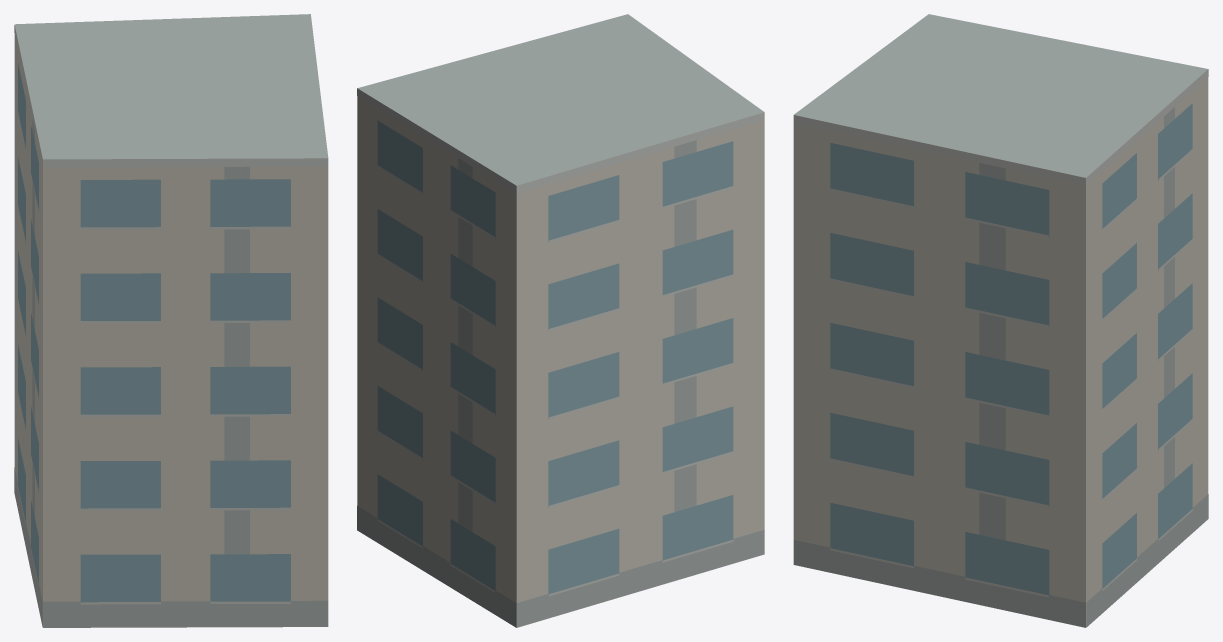
File: survey-upis-32726289.glb
3 views of the same model, side by side, from view 1: azimuth 30°, elevation 25°; view 2: azimuth 150°, elevation 25°; view 3: azimuth 270°, elevation 25° (orthographic). The views are drawn at different scales.
Visible parts, largest first — view 1: survey-upis-32726289.tmp; view 2: survey-upis-32726289.tmp; view 3: survey-upis-32726289.tmp.
Boxes of the visible parts, x1=… form: survey-upis-32726289.tmp: x1=14, y1=14, x2=328, y2=627; survey-upis-32726289.tmp: x1=357, y1=14, x2=764, y2=627; survey-upis-32726289.tmp: x1=793, y1=14, x2=1208, y2=627.
Bounding box in the file's own units: 10.95 × 14 × 11.71.
